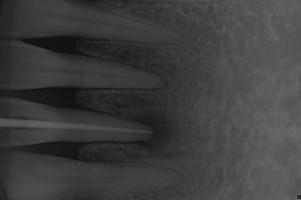Furcation Involvement: (130, 112, 174, 150)
